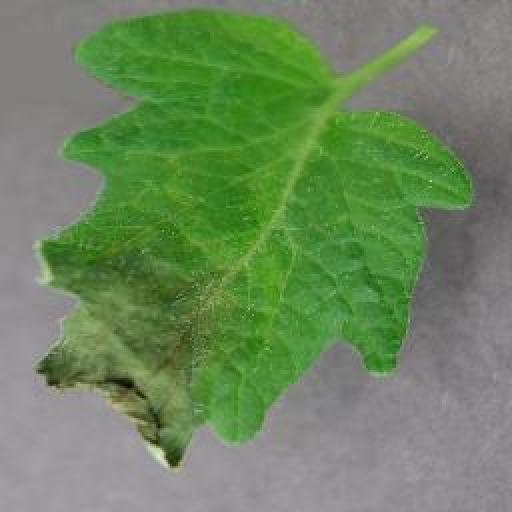disease_tomato: (32, 9, 476, 479)
